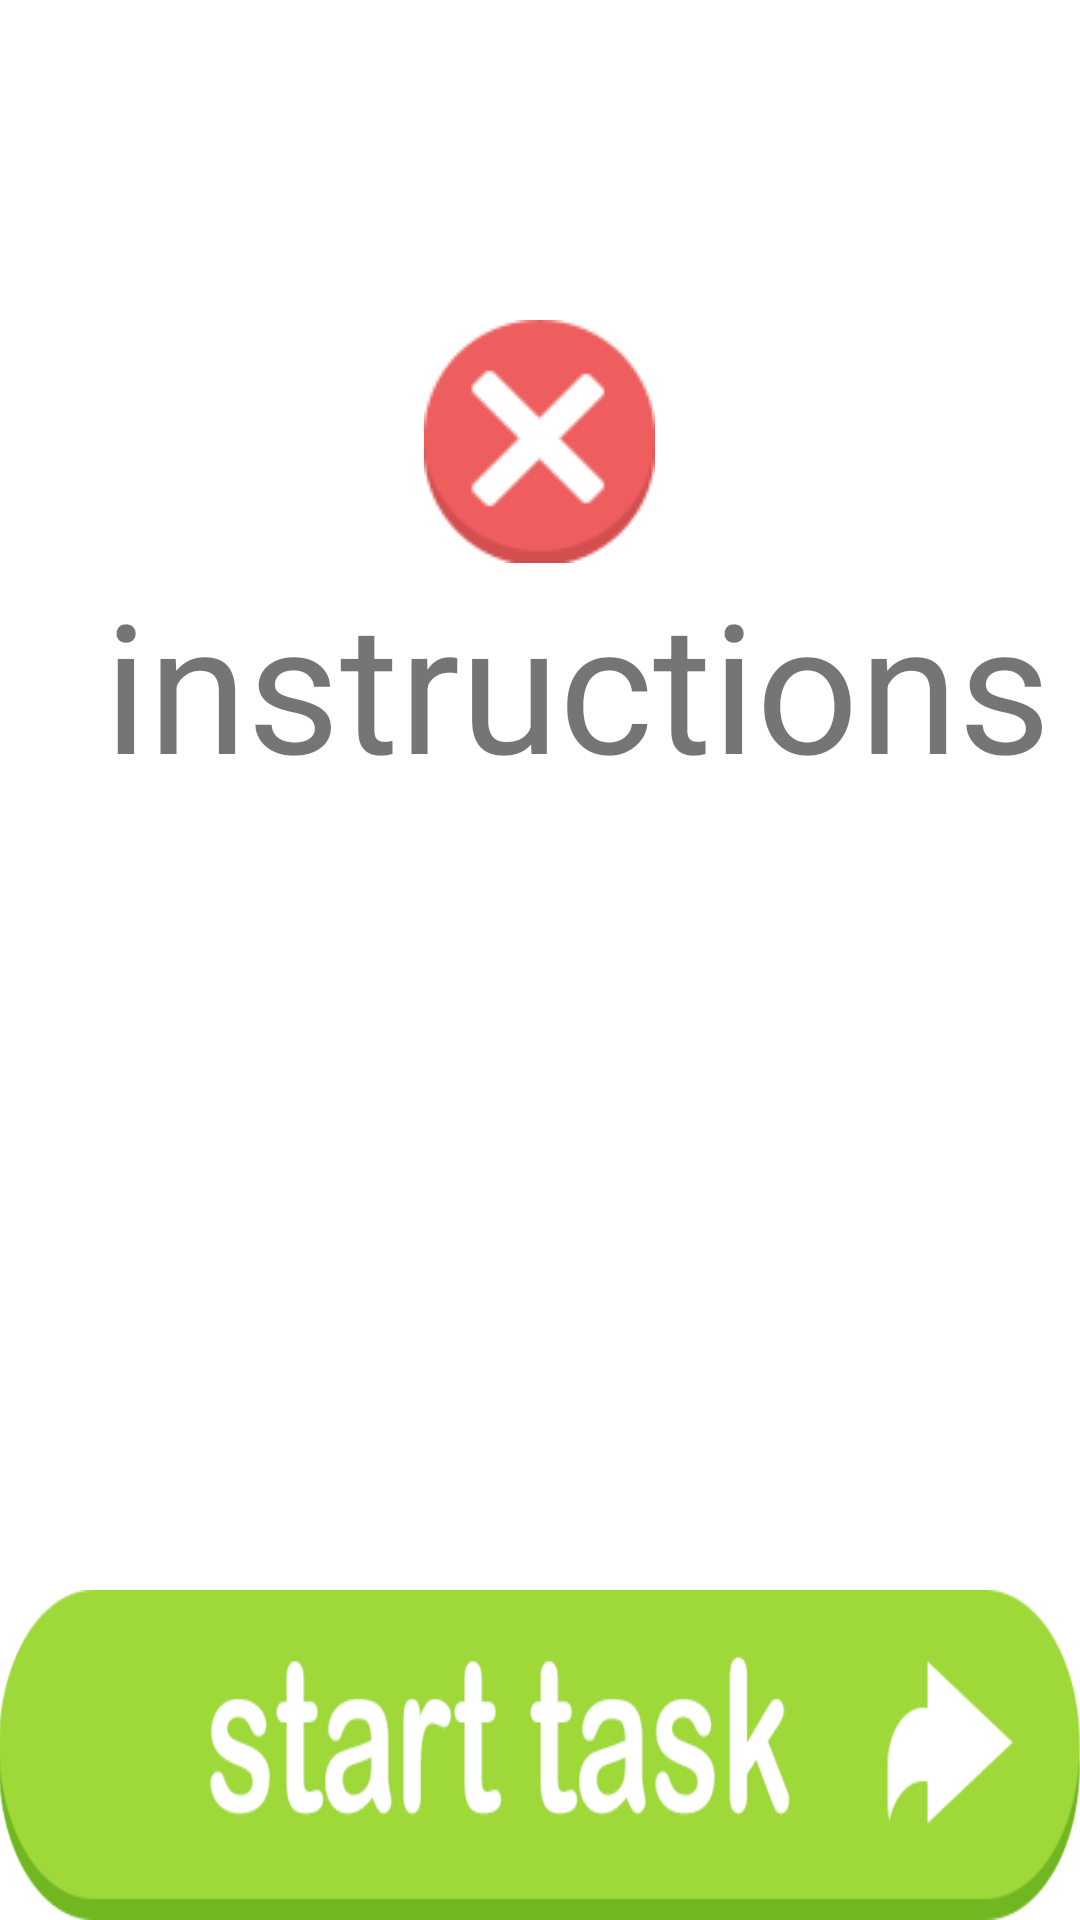

Icon click points for this 1080x1920 phone screenshot, format (x,y):
exit: (539,441)
